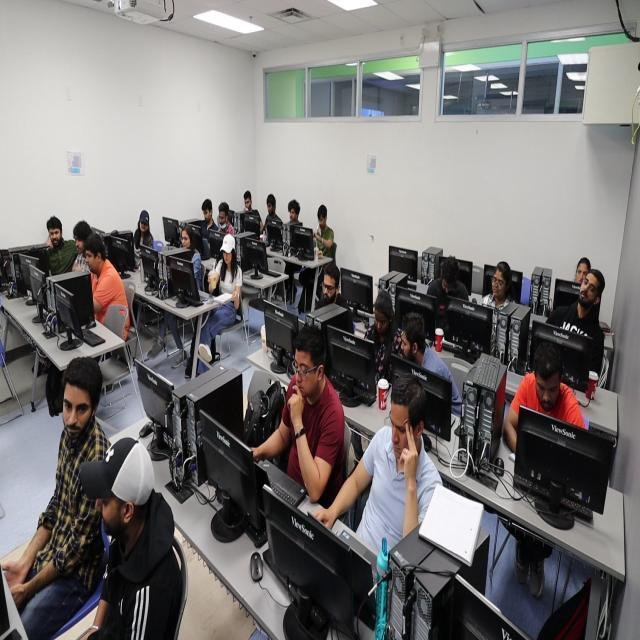Looking away: (94, 488, 134, 536), (62, 380, 91, 440), (390, 396, 416, 462), (292, 347, 318, 397), (533, 372, 560, 413), (322, 271, 337, 304), (491, 267, 506, 299), (374, 306, 389, 335), (400, 329, 412, 360), (441, 274, 457, 296), (85, 248, 96, 274), (74, 234, 85, 254), (181, 230, 190, 248), (222, 248, 232, 264), (218, 211, 226, 228), (139, 218, 148, 233), (202, 209, 212, 222), (317, 214, 326, 228), (266, 202, 274, 215), (289, 208, 297, 221), (244, 198, 252, 210)
Looking forward: (579, 272, 598, 306), (576, 261, 588, 285), (49, 228, 60, 245)
